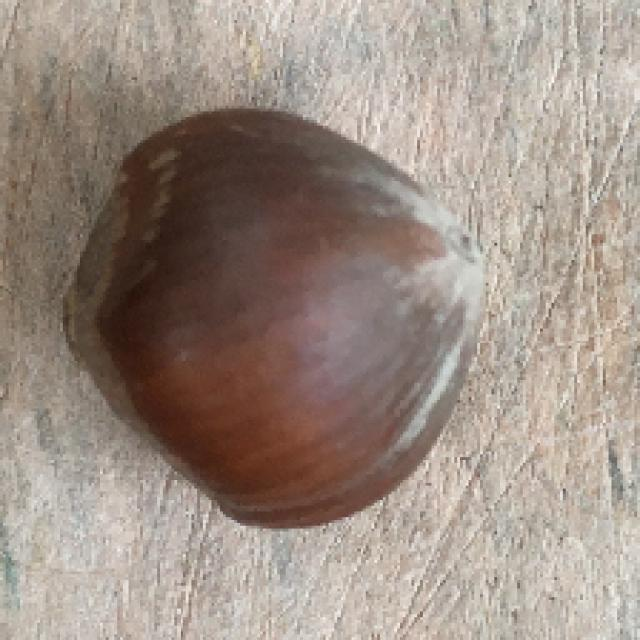damagedHazelnut: (57, 108, 499, 538)
